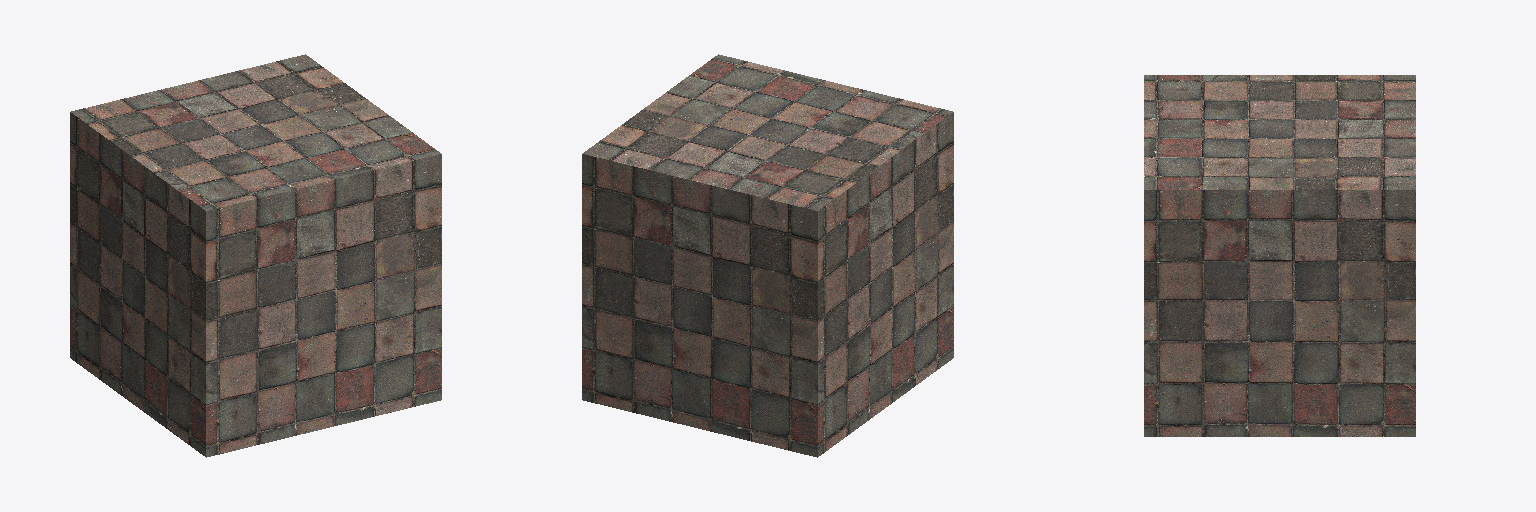
3 renders of one model, left to right at view 1: azimuth 30°, elevation 25°; view 2: azimuth 150°, elevation 25°; view 3: azimuth 270°, elevation 25°, orthographic.
Parts seen in each view (by area): view 1: cube2; view 2: cube2; view 3: cube2.
Boxes of the visible parts, <box> form: cube2: <box>70,54,441,457</box>; cube2: <box>582,54,953,457</box>; cube2: <box>1144,75,1415,436</box>.
Size of the model in its own units: 3.75 by 3.75 by 3.75.
1 materials, 1 textured.